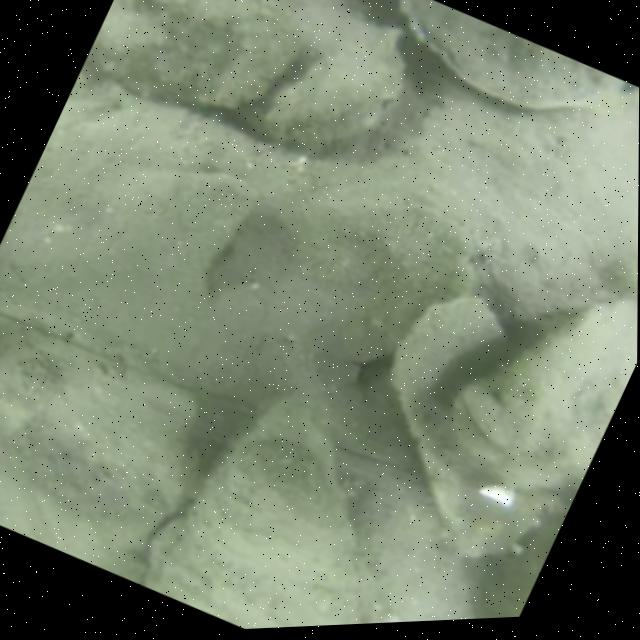Oyster-Closed: (458, 297, 638, 490)
Oyster-Indeterminate: (0, 321, 210, 585), (392, 295, 564, 558), (149, 428, 371, 628), (401, 0, 618, 110), (94, 0, 298, 108), (263, 23, 404, 153), (353, 475, 473, 622)
